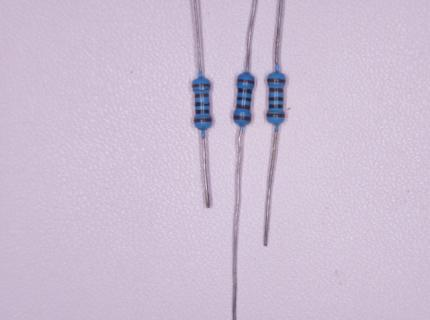Black band: (238, 88, 252, 94), (269, 104, 283, 109), (196, 109, 210, 114), (269, 97, 284, 101), (195, 102, 210, 106), (237, 97, 251, 101)
Brown band: (233, 115, 251, 121), (237, 78, 254, 84), (192, 83, 211, 88), (267, 113, 285, 118), (237, 104, 250, 110), (267, 79, 286, 83), (195, 93, 210, 98), (194, 118, 212, 122), (270, 88, 283, 92)
